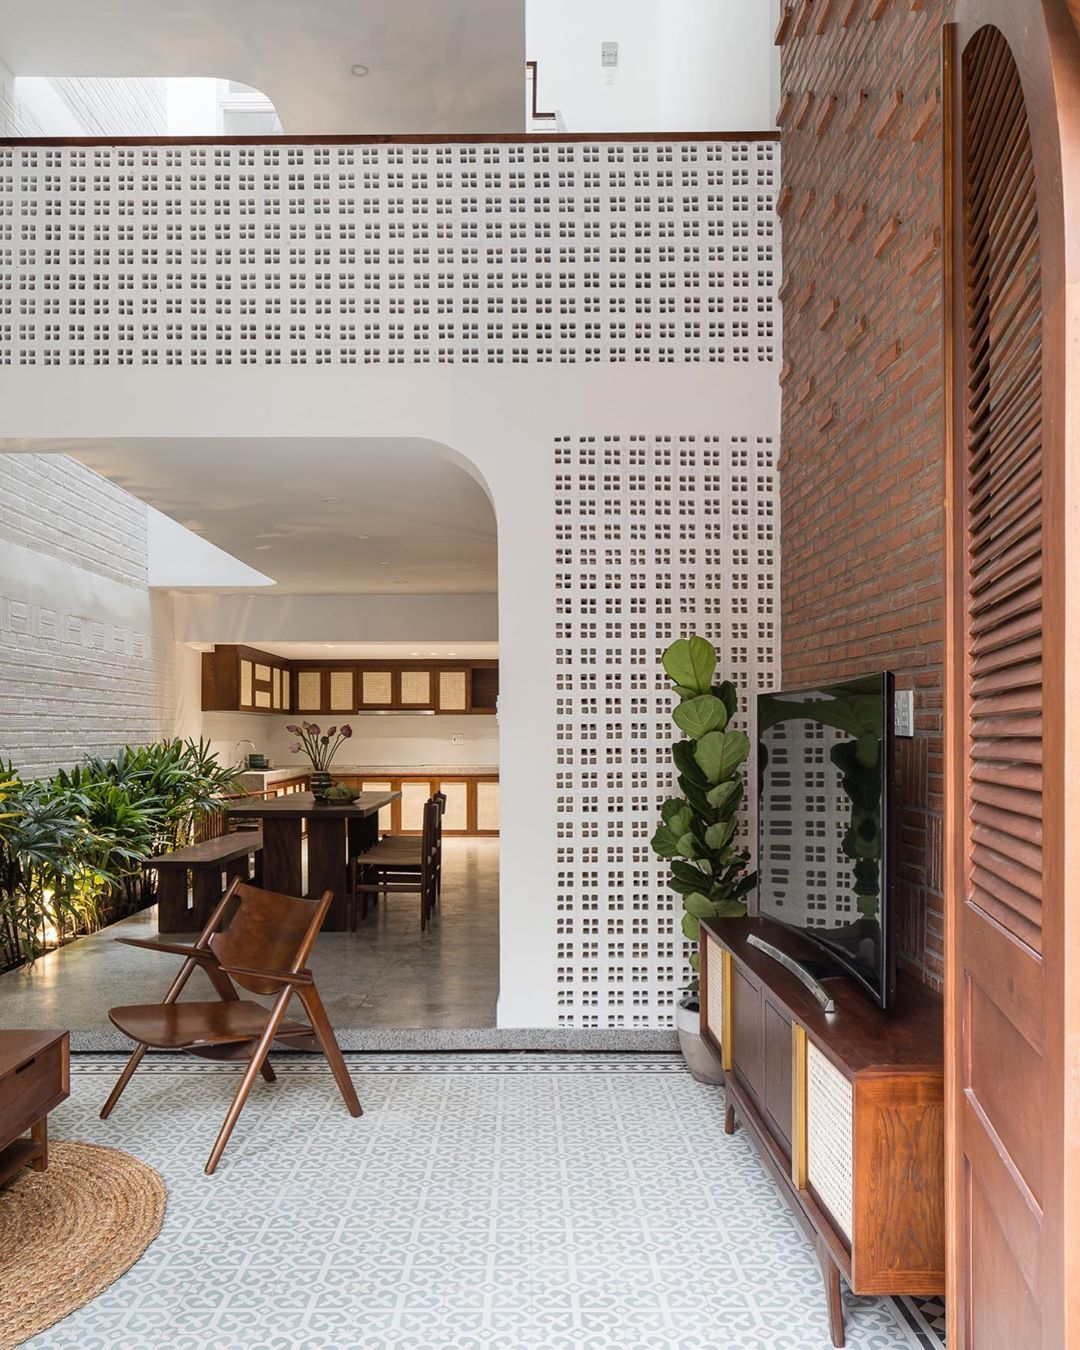kursi: (98, 881, 379, 1179), (372, 788, 452, 927)
meja: (225, 788, 406, 924)
tanaman: (2, 752, 206, 927), (656, 627, 756, 921)
tv: (746, 665, 908, 1015)
